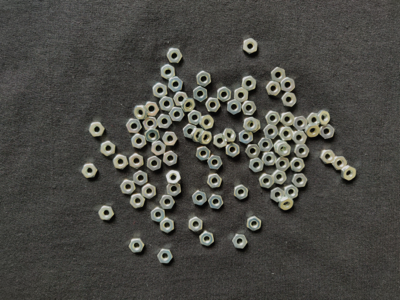nut: (89, 122, 106, 138), (82, 163, 98, 179), (100, 141, 116, 157), (131, 134, 147, 150), (152, 83, 168, 99), (113, 155, 129, 170), (121, 180, 136, 196), (130, 194, 146, 209), (129, 238, 145, 253), (126, 119, 142, 134), (147, 156, 162, 172), (157, 114, 173, 129), (159, 97, 175, 112), (168, 77, 183, 93), (193, 86, 208, 102), (200, 231, 215, 247), (242, 76, 257, 92), (243, 117, 258, 133), (245, 144, 261, 159), (249, 157, 264, 173), (265, 111, 281, 126), (266, 81, 282, 96), (271, 67, 286, 83), (316, 110, 331, 126), (320, 150, 336, 165), (332, 156, 348, 171), (341, 166, 357, 181), (244, 38, 258, 55), (99, 206, 114, 221), (129, 154, 144, 169), (151, 141, 166, 156), (145, 128, 160, 143), (151, 208, 166, 223), (158, 249, 173, 264), (166, 170, 181, 185), (163, 151, 178, 166), (170, 107, 185, 122), (217, 87, 232, 102), (196, 147, 211, 162), (208, 174, 223, 189), (193, 191, 208, 206), (209, 195, 224, 210), (227, 100, 242, 115), (247, 216, 262, 231), (233, 234, 248, 249), (242, 101, 257, 116), (239, 130, 254, 145), (259, 174, 274, 189), (258, 138, 273, 153), (281, 77, 296, 92), (282, 92, 297, 107), (279, 196, 294, 211), (272, 170, 287, 185), (290, 157, 305, 172), (294, 116, 309, 131), (320, 124, 335, 139), (142, 184, 156, 200), (161, 218, 175, 234), (167, 49, 183, 63), (187, 110, 201, 126), (197, 71, 211, 87), (205, 98, 221, 112), (207, 156, 223, 170), (189, 217, 203, 233), (234, 87, 248, 103), (292, 174, 308, 188), (134, 171, 148, 186), (134, 106, 149, 120), (160, 196, 175, 210), (163, 132, 178, 146), (161, 65, 175, 80), (174, 92, 188, 107), (181, 98, 195, 113), (183, 124, 197, 139), (191, 128, 205, 143), (200, 115, 214, 130), (222, 129, 237, 143), (226, 143, 240, 158), (234, 185, 248, 200), (262, 152, 277, 166), (264, 125, 279, 139), (276, 157, 290, 172), (276, 143, 291, 157), (279, 127, 294, 141), (281, 112, 295, 127), (294, 144, 309, 158), (305, 124, 320, 138), (271, 187, 284, 203), (145, 102, 159, 116), (285, 185, 299, 199), (293, 131, 307, 145), (143, 117, 158, 130), (214, 134, 227, 149), (167, 184, 181, 197), (199, 131, 212, 145), (248, 120, 261, 133), (274, 140, 287, 153), (307, 113, 320, 126)
